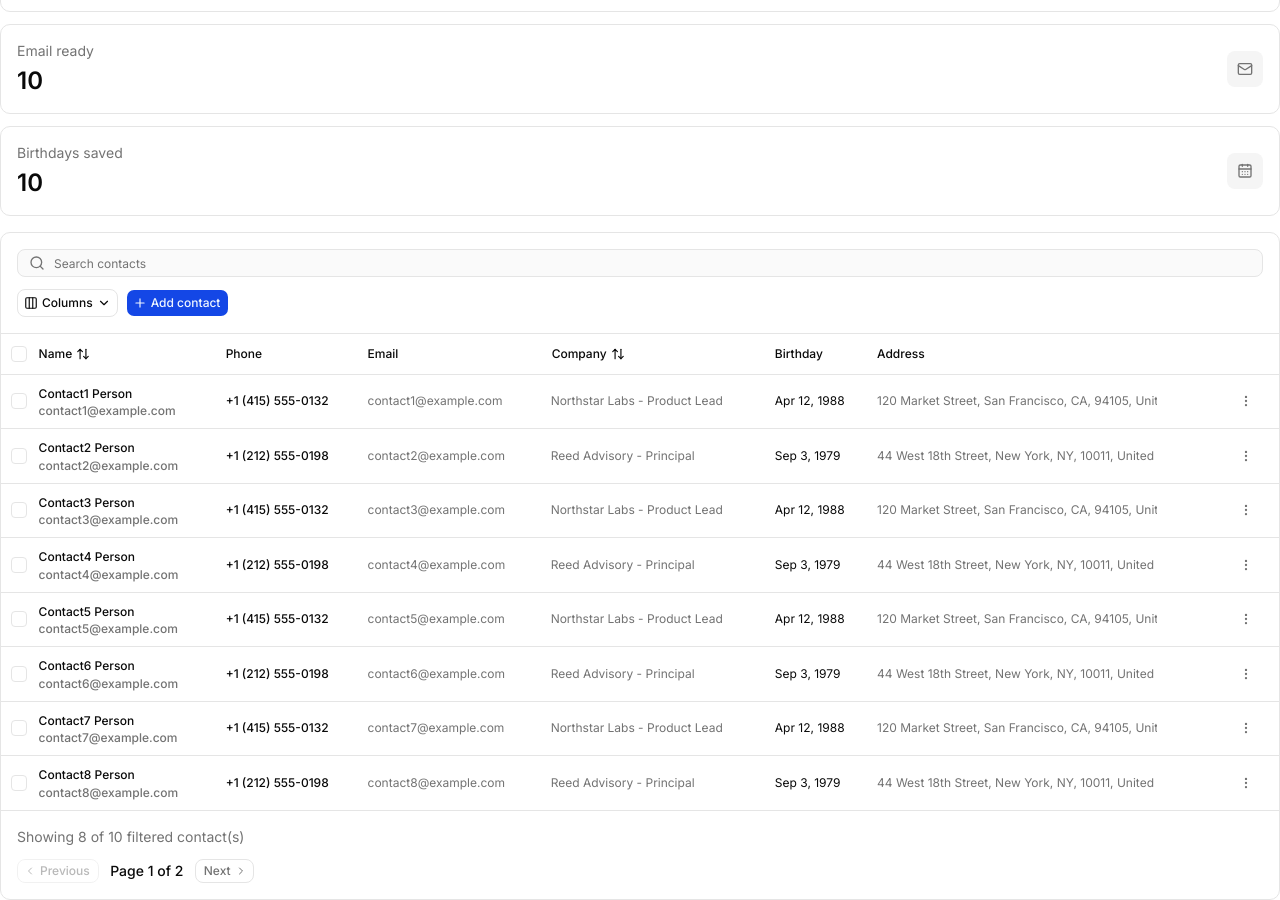
DataTable › paginates longer contact lists
(page scrolled)
Expected: the text "Page 1 of 2" is shown, [107, 860, 187, 880]
Expected: the text "Contact1 Person" is shown, [39, 384, 132, 403]
Click the button "Next".
click(224, 870)  # box [195, 858, 254, 882]
(page scrolled)
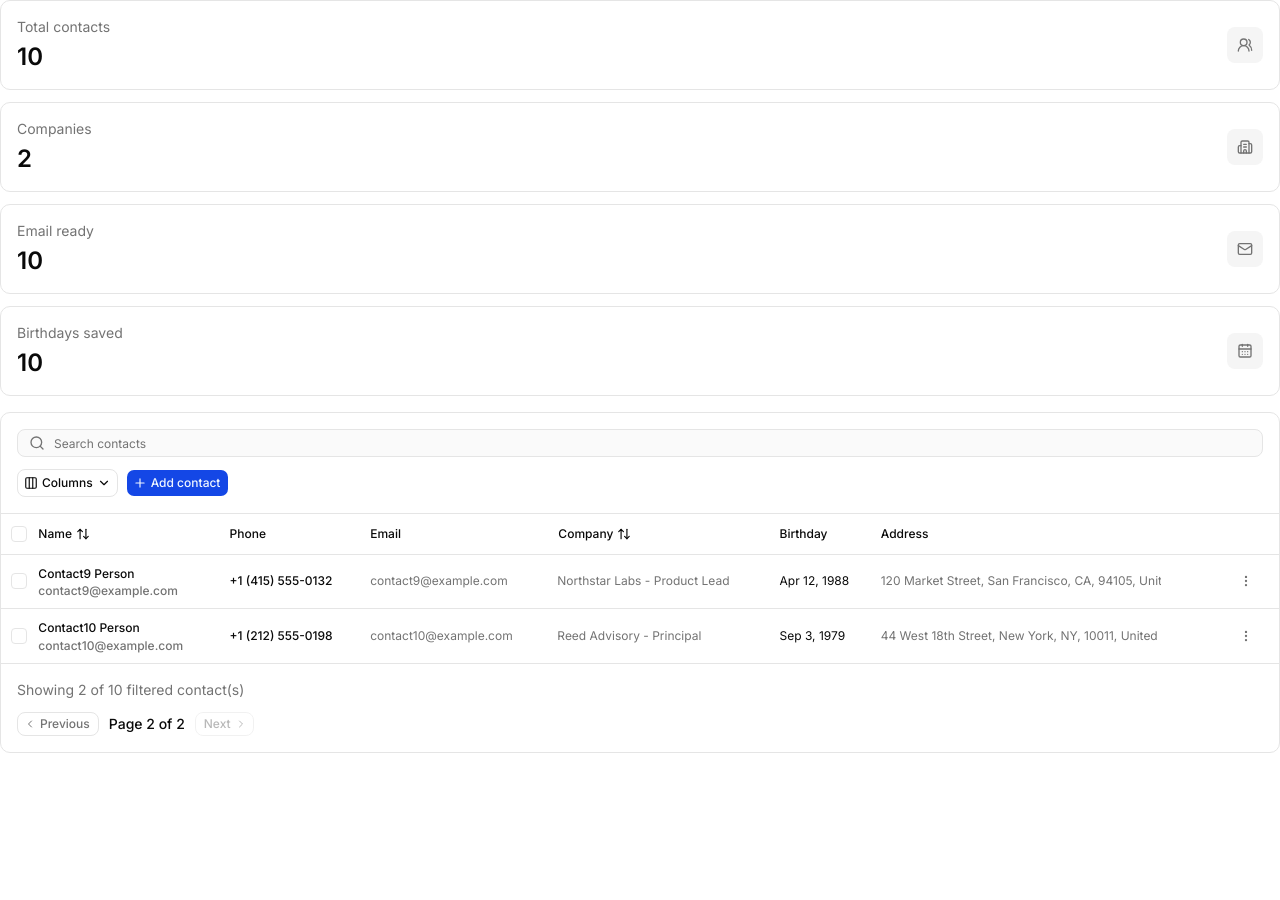
Now the text "Page 2 of 2" is shown, box [107, 714, 187, 734]
Now the text "Contact9 Person" is shown, box [38, 564, 134, 583]
Click the button "Previous".
click(58, 724)  # box [17, 712, 99, 736]
(page scrolled)
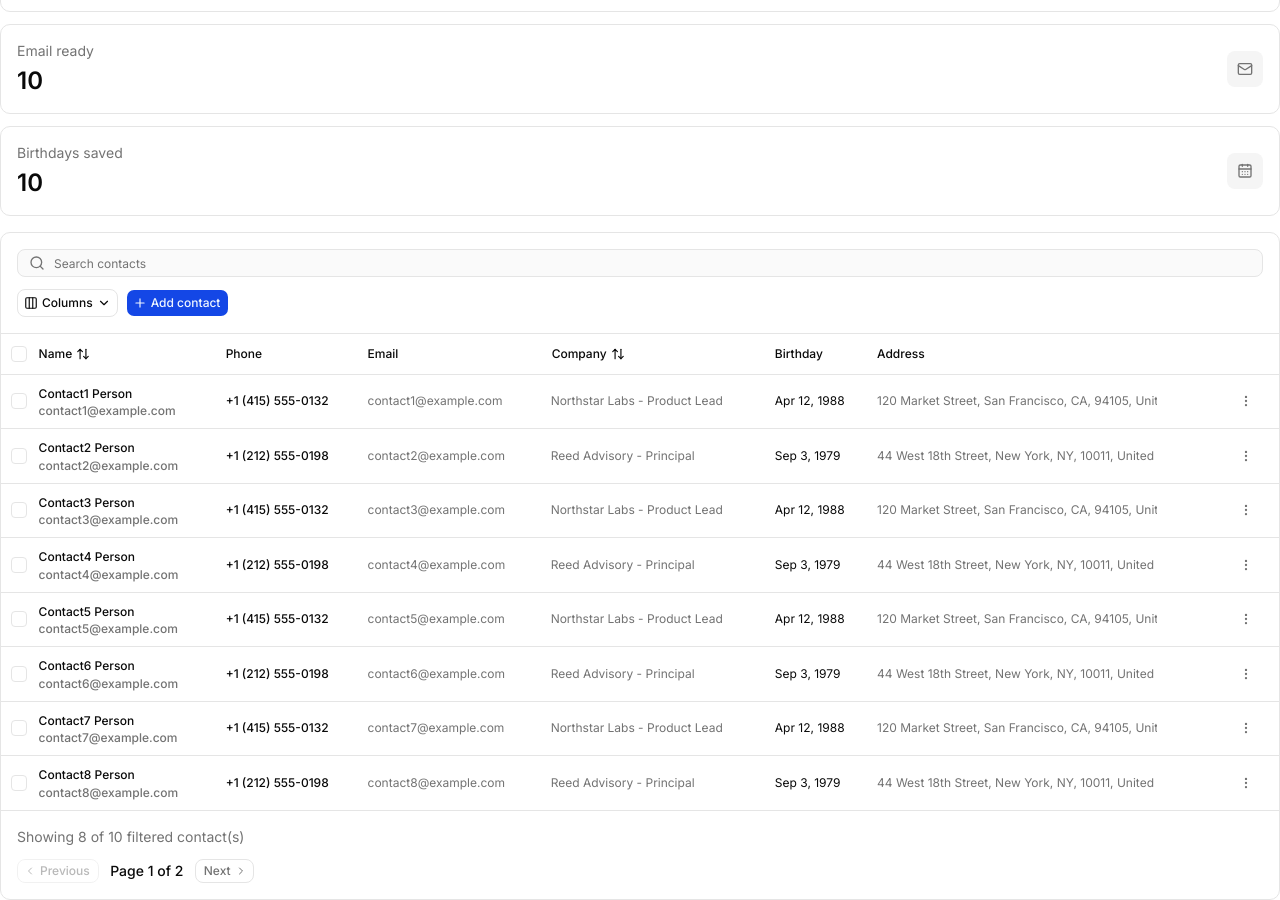
Now the text "Page 1 of 2" is shown, box [107, 860, 187, 880]
